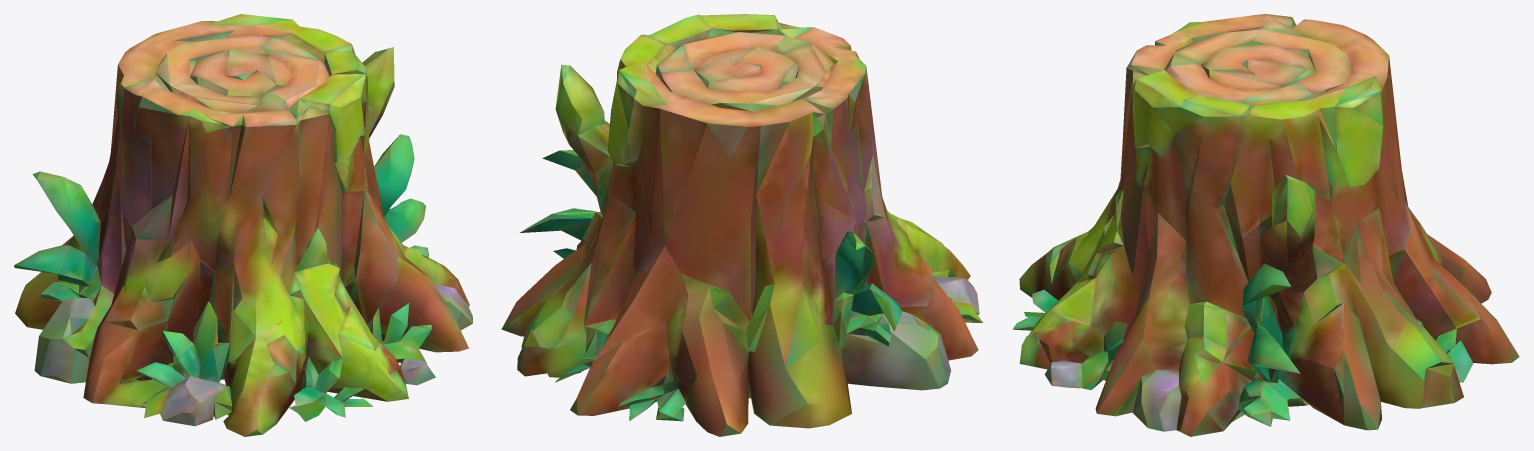
The model's file is tree-stump.glb.
The picture shows the model from 3 angles, left to right: view 1: azimuth 30°, elevation 25°; view 2: azimuth 150°, elevation 25°; view 3: azimuth 270°, elevation 25°; orthographic projection. The views are drawn at different scales.
Visible parts, largest first — view 1: output_unwrapped; view 2: output_unwrapped; view 3: output_unwrapped.
Boxes of the visible parts, x1,y1,x2,y2 form: output_unwrapped: (14, 14, 472, 436); output_unwrapped: (501, 14, 982, 436); output_unwrapped: (1012, 14, 1519, 436).
Size of the model in its own units: 1.82 by 1.15 by 1.9.
1 material, 1 textured.
